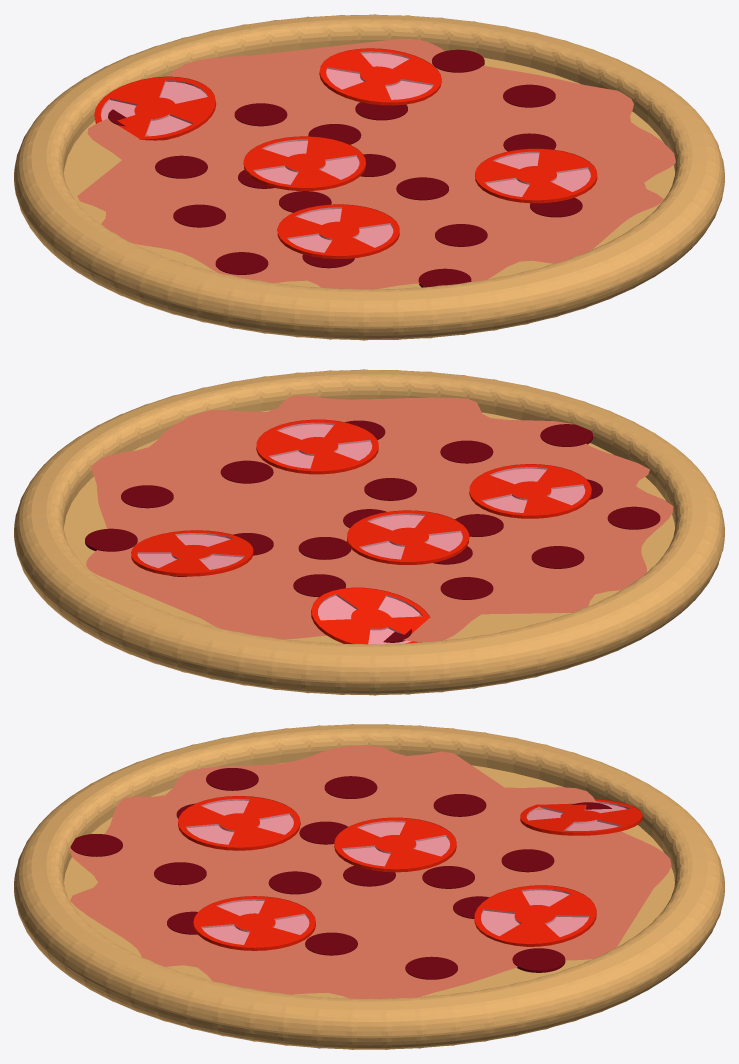
Rendered from pwst.fbx.
3 views of the same model, one above another, from view 1: azimuth 30°, elevation 25°; view 2: azimuth 150°, elevation 25°; view 3: azimuth 270°, elevation 25° (orthographic).
Parts seen in each view (by area): view 1: pwst; view 2: pwst; view 3: pwst.
Part boxes in pixels (<box>): pwst: <box>14,14,724,340</box>; pwst: <box>14,369,724,695</box>; pwst: <box>14,724,724,1049</box>.
Size of the model in its own units: 232 by 19.76 by 232.
